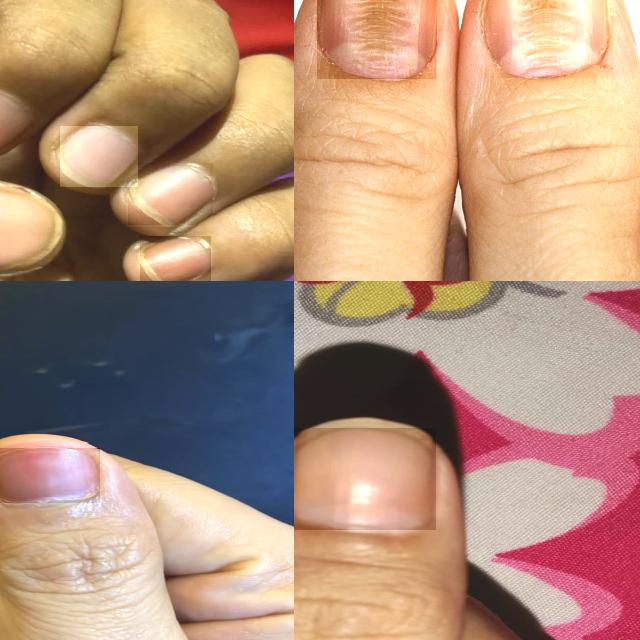diabetes: (481, 0, 608, 78), (318, 0, 437, 79)
sehat: (294, 428, 436, 530), (0, 448, 100, 503), (128, 164, 213, 225), (60, 126, 138, 187), (0, 191, 55, 267), (141, 236, 211, 281), (0, 92, 32, 148)
